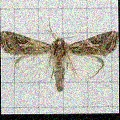Spodoptera litura: (1, 16, 119, 93)
